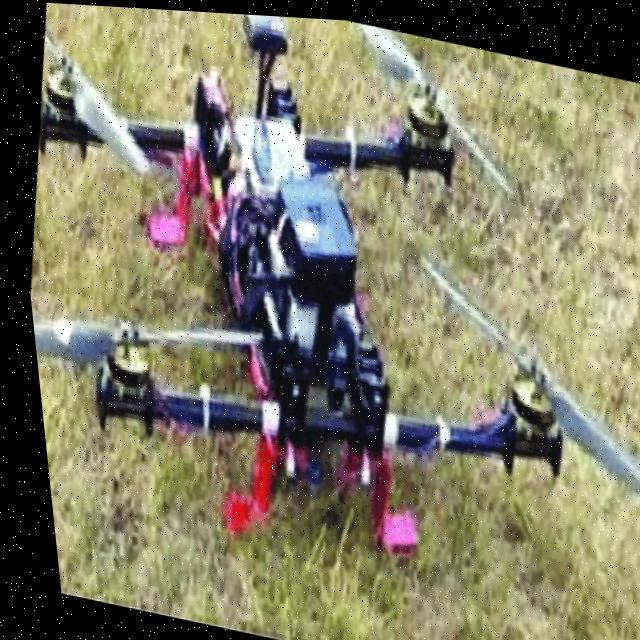drones: (0, 0, 640, 621)
